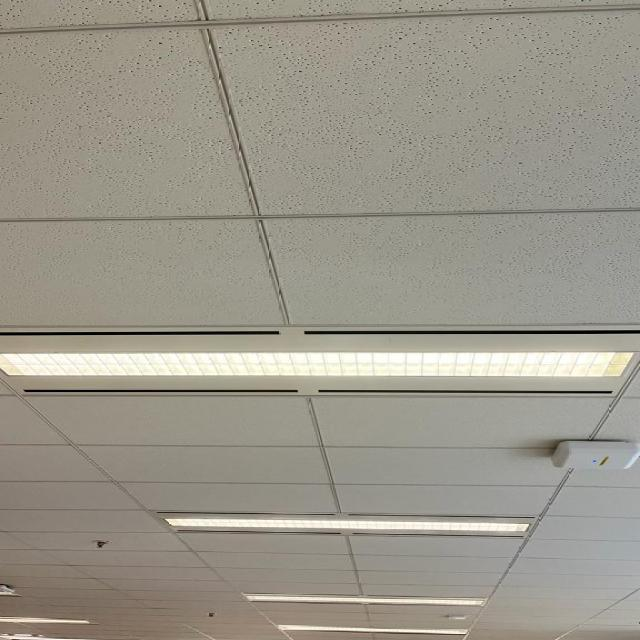Light-Opened: (2, 327, 640, 397), (151, 512, 550, 537)
